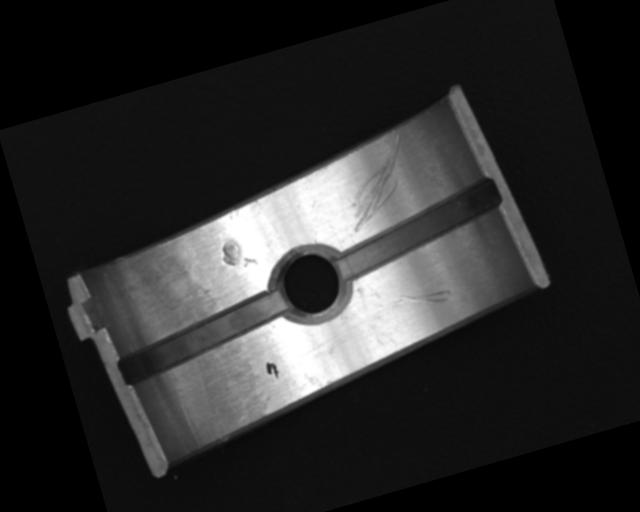blot: (263, 358, 280, 381)
bruise: (217, 233, 257, 273)
gap: (325, 177, 510, 282), (109, 290, 295, 387)
hole: (267, 240, 354, 330)
nick: (331, 134, 425, 233), (393, 282, 452, 315)
